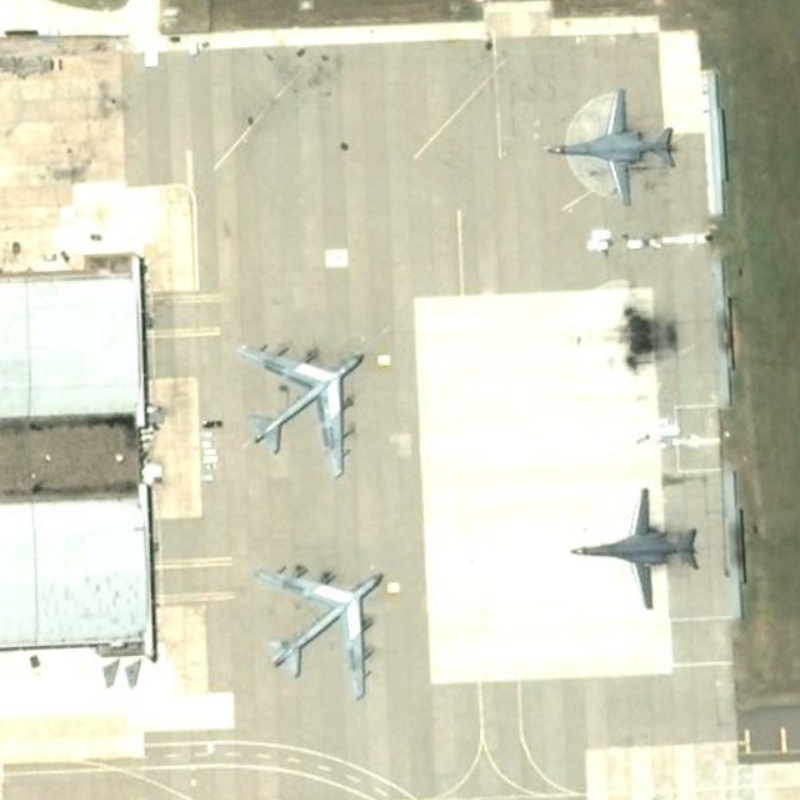A10: (570, 472, 704, 611), (548, 83, 690, 212)
A8: (228, 331, 380, 484), (248, 554, 397, 705)
